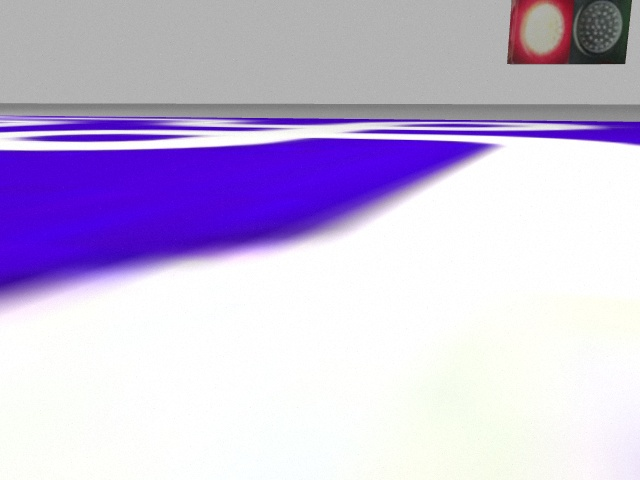red: (510, 1, 571, 66)
